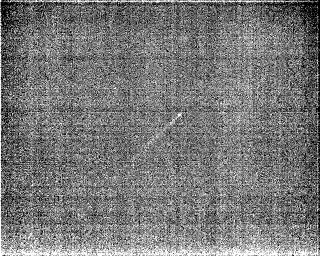AIRPLANE: (131, 113, 183, 154)
